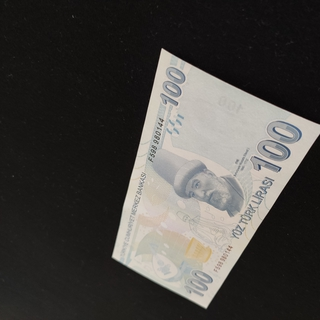100TLBack: (111, 47, 320, 311)
